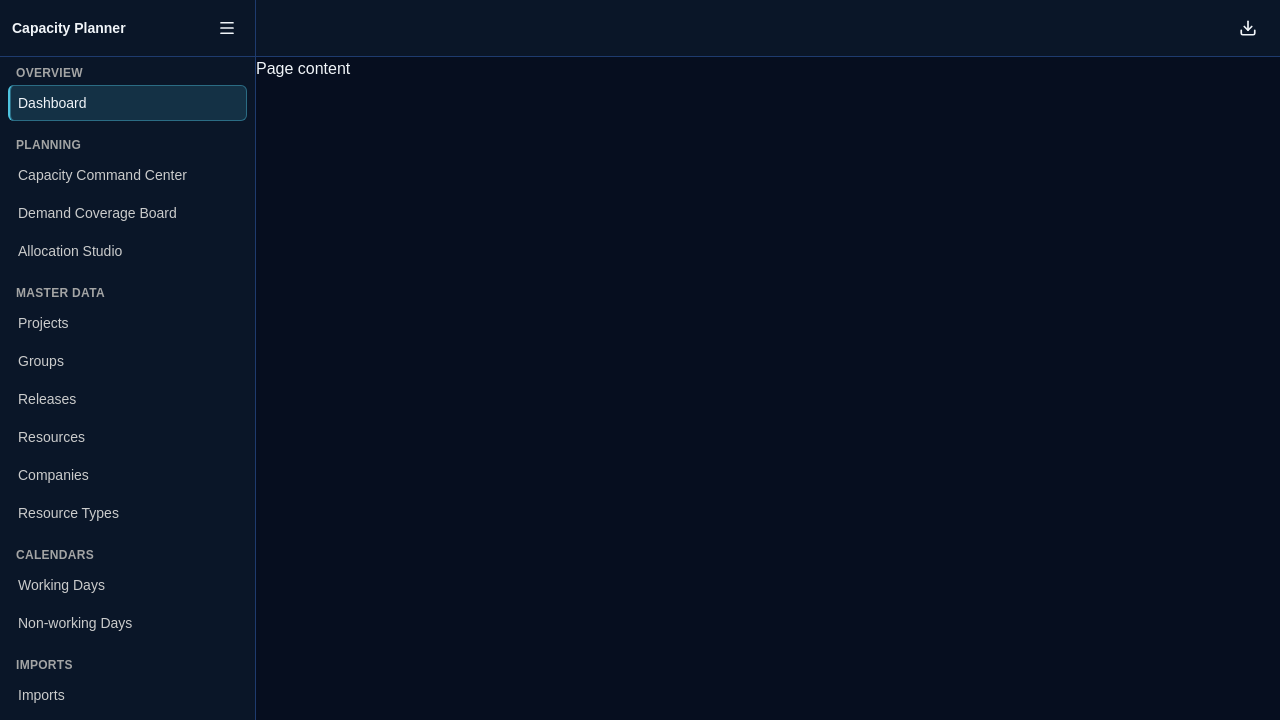
AppShell › exports a database backup from the always-visible header icon
The width and height of the screenshot is (1280, 720).
Step 1. Click the button named "Export database backup" → (1248, 28), box [1232,12,1264,44]
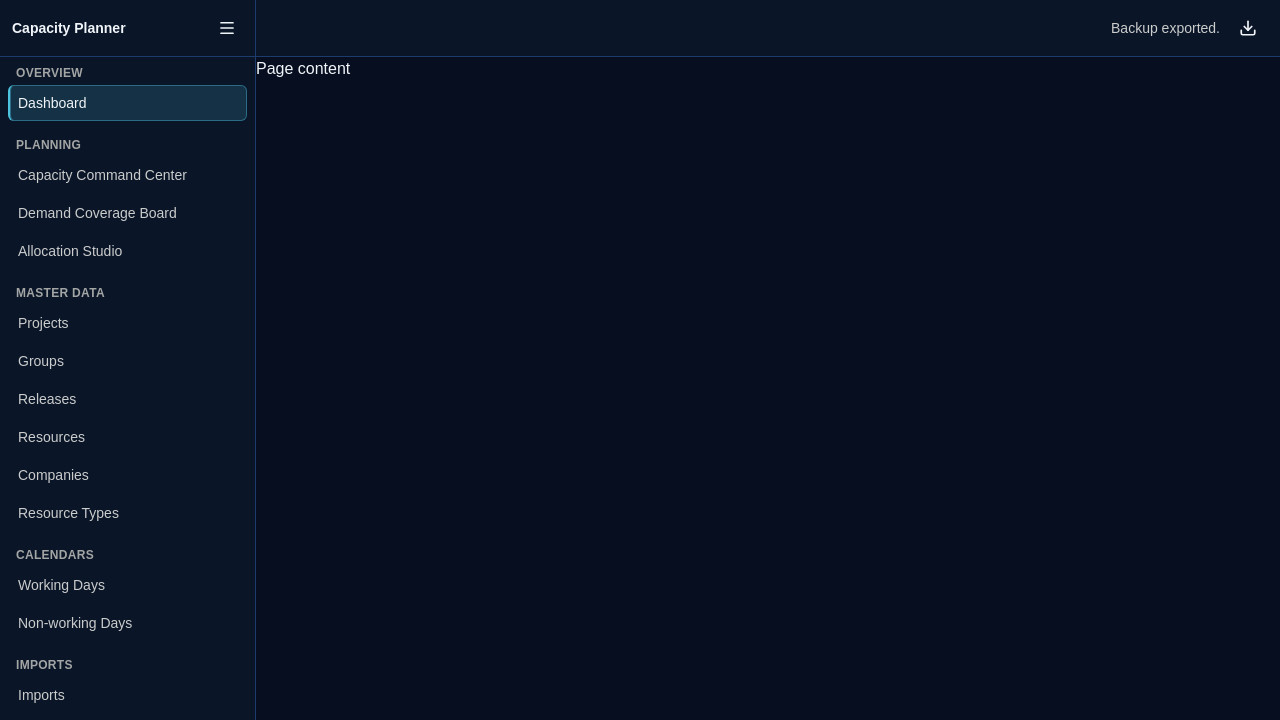
Result: the text "Backup exported." is shown at [1111,18,1220,38]
